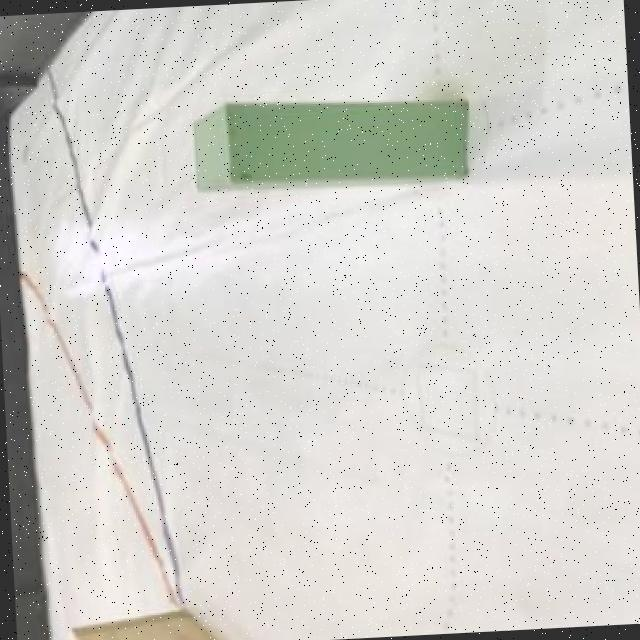greenbox: (189, 86, 470, 196)
